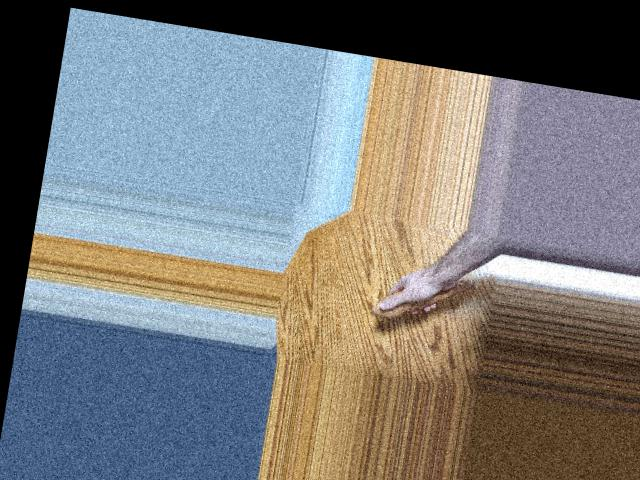sweet_potato: (369, 261, 484, 336)
